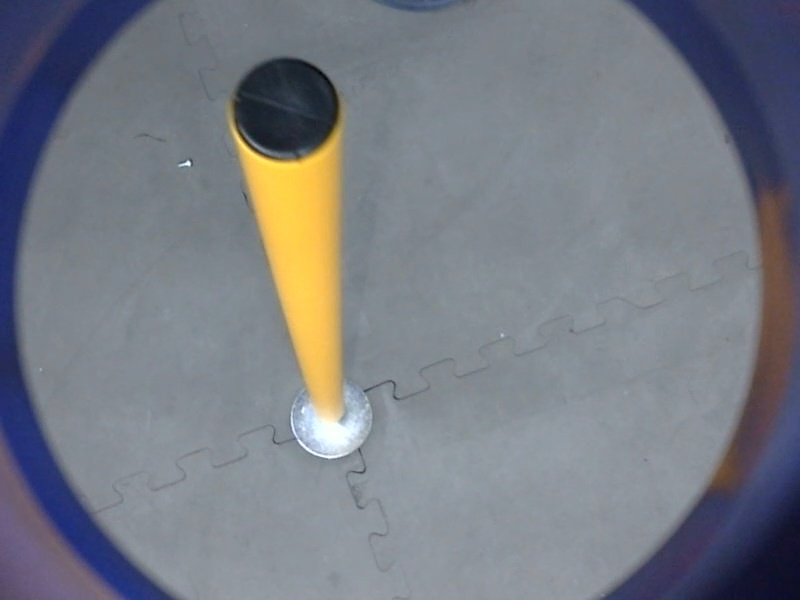tip: (220, 51, 350, 169)
